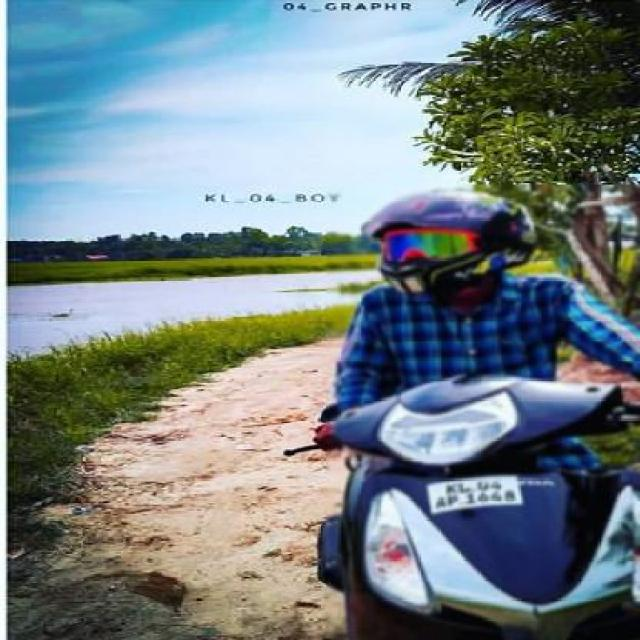helmet: (353, 171, 551, 342)
motorcycle: (253, 133, 640, 640)
